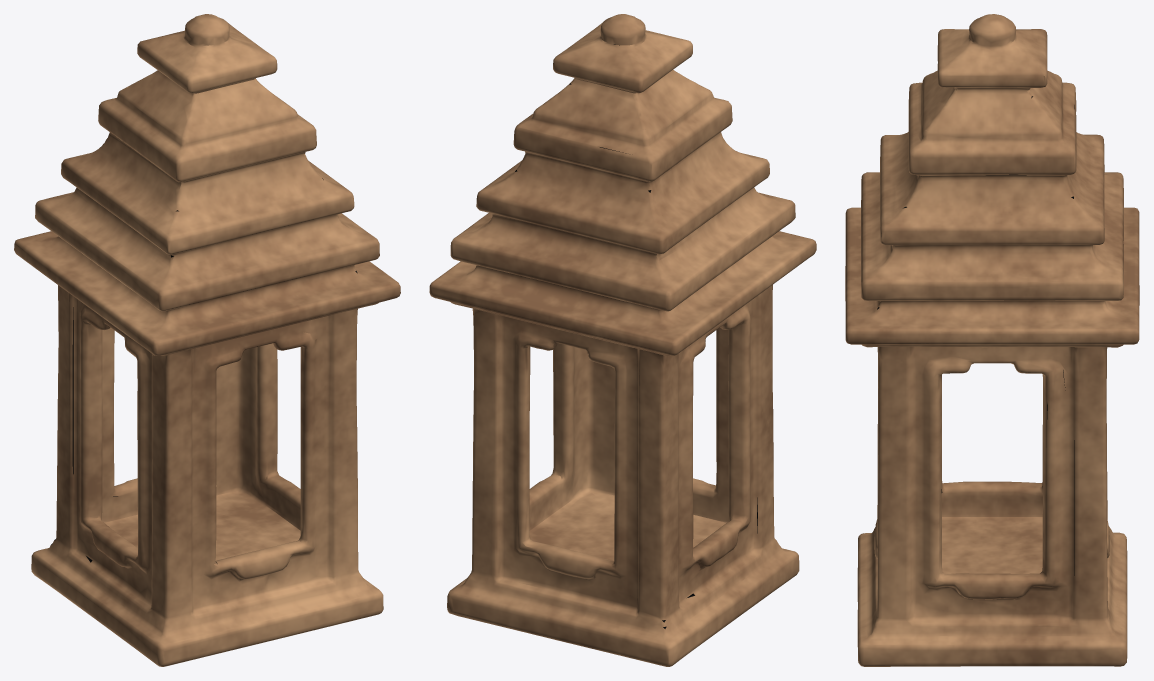
Rendered from sandstone-lantern-v001.glb.
The picture shows the model from 3 angles, left to right: view 1: azimuth 30°, elevation 25°; view 2: azimuth 150°, elevation 25°; view 3: azimuth 270°, elevation 25°; orthographic projection. The views are drawn at different scales.
Visible parts, largest first — view 1: sandstone-lantern; view 2: sandstone-lantern; view 3: sandstone-lantern.
Boxes of the visible parts, <box> form: sandstone-lantern: <box>14,14,400,666</box>; sandstone-lantern: <box>429,14,816,666</box>; sandstone-lantern: <box>845,14,1139,666</box>.
Bounding box in the file's own units: 0.4481 × 1 × 0.4478.
1 material, 1 textured.
